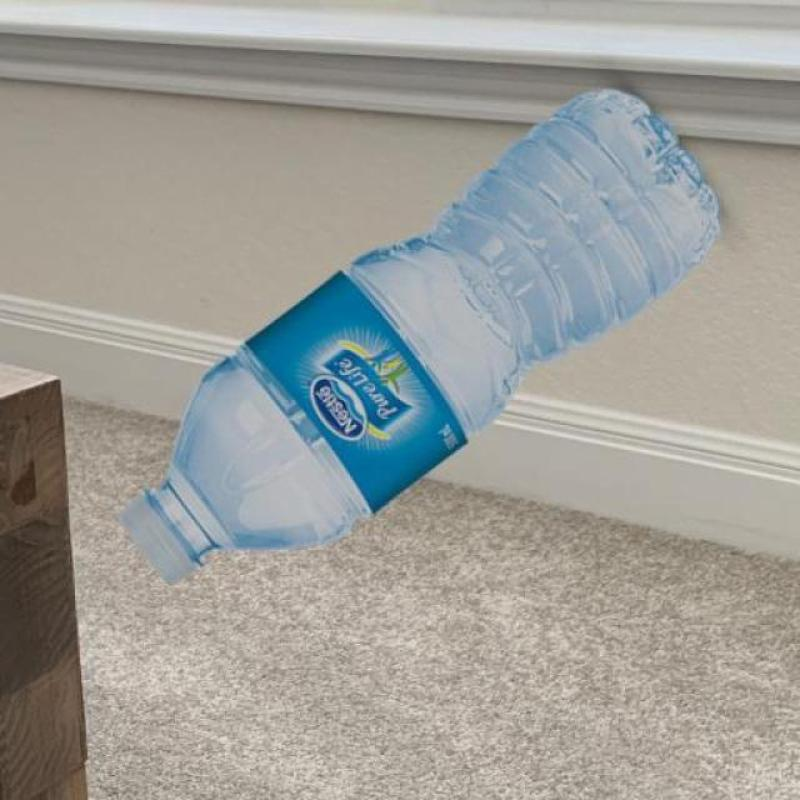botella: (117, 90, 723, 586)
